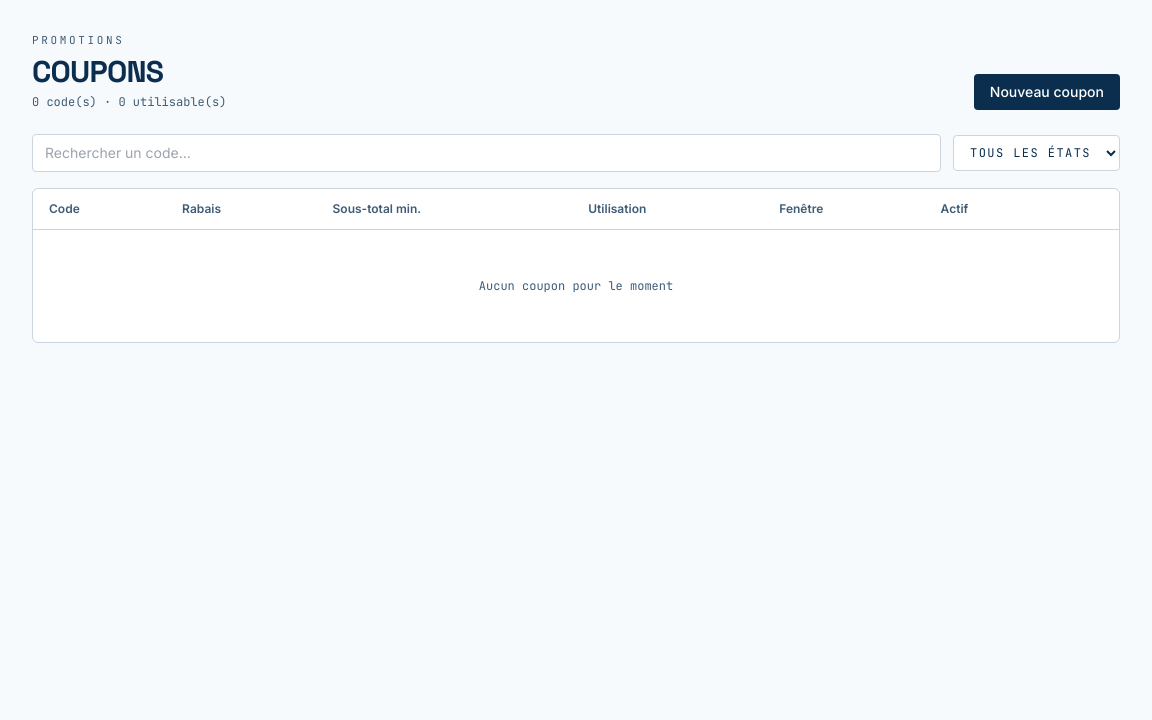
un ecran vide distingue les filtres d une absence de coupon
Type "zzz" into the field with test id "coupons-search" at (486,153), box 32,134 -> 941,172
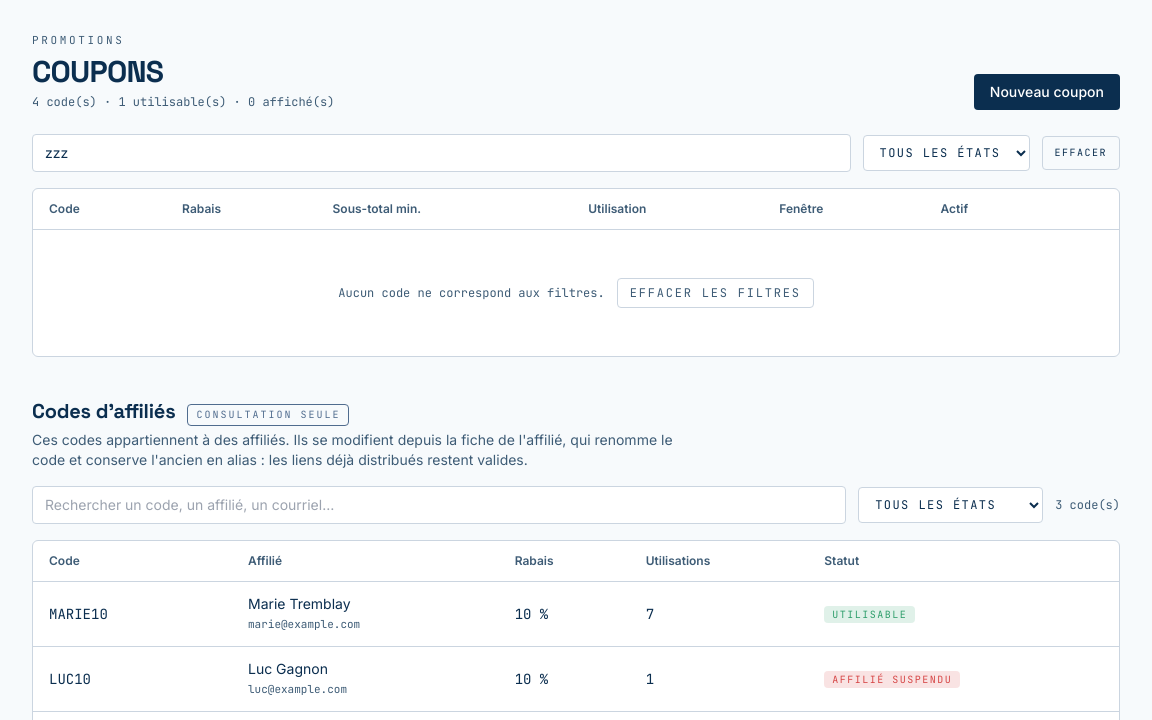
Expected: the cell with test id "coupons-empty-filtered" is shown, 33,229 -> 1119,356
Click the button with test id "coupons-empty-reset" at (715,293), box 617,278 -> 814,308
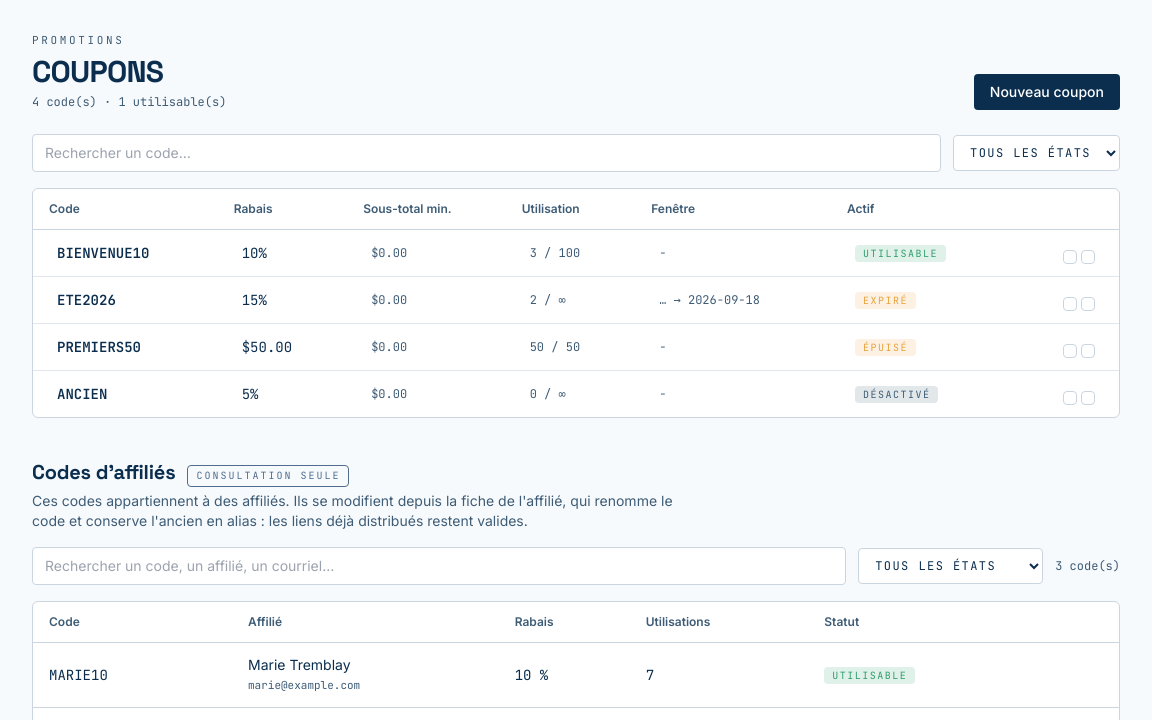
Expected: the row with test id "coupon-row-BIENVENUE10" is shown, 33,229 -> 1119,276
